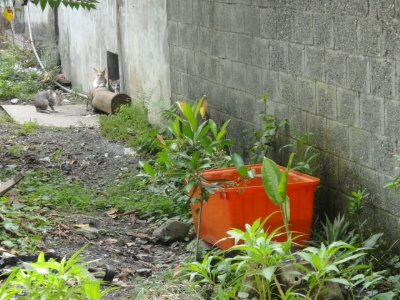box: (182, 162, 322, 254)
